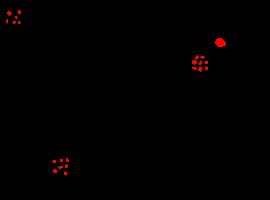Target: (215, 38, 226, 47), (7, 11, 12, 16), (192, 60, 197, 65), (198, 67, 202, 72), (195, 55, 199, 59), (53, 169, 57, 173), (200, 56, 205, 59), (192, 67, 197, 70), (58, 166, 63, 169), (18, 10, 21, 14), (199, 61, 202, 65), (204, 61, 208, 64), (205, 66, 208, 70), (66, 158, 69, 162), (52, 160, 56, 163), (65, 164, 68, 168), (64, 171, 67, 175), (15, 16, 18, 19), (13, 21, 16, 24), (18, 21, 21, 24), (60, 159, 63, 162), (6, 19, 8, 23)
